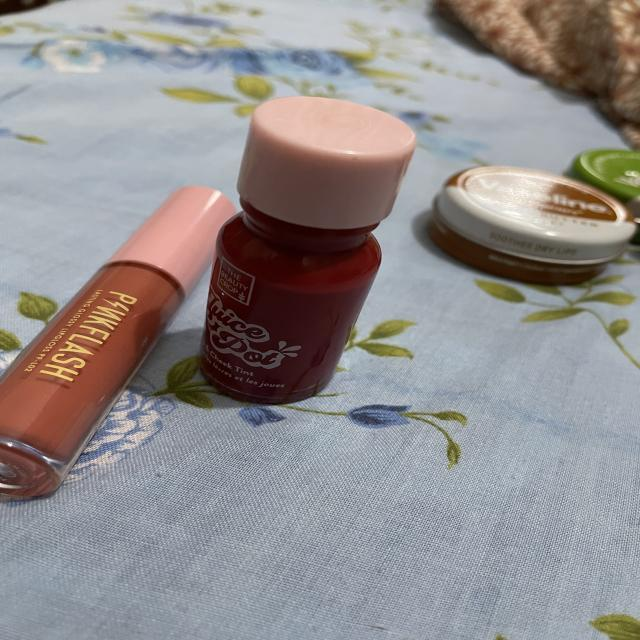Tint: (196, 86, 419, 411)
lip balm: (429, 148, 640, 293)
lip gloss: (0, 165, 248, 504)
